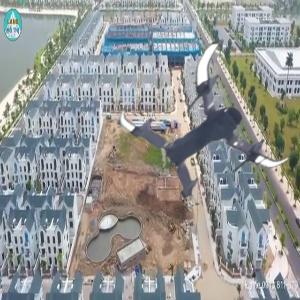drone: (136, 47, 296, 207)
